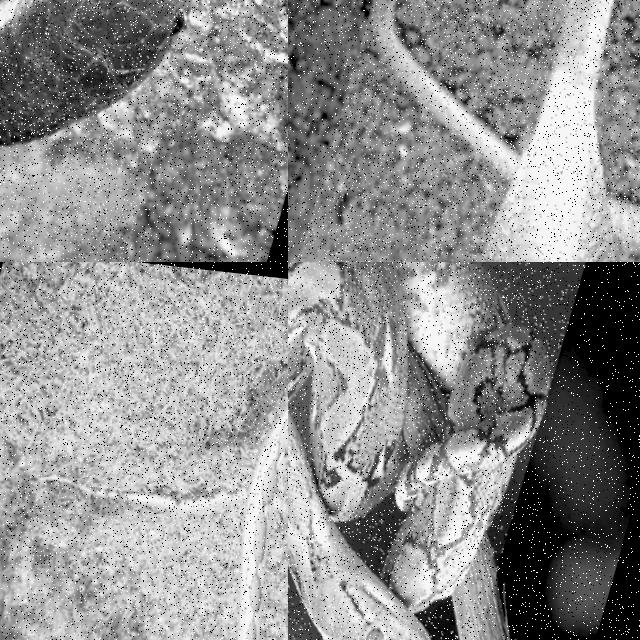Bungarus fasciatus: (0, 0, 195, 145)
Malayopython reticulatus: (288, 262, 548, 639), (81, 404, 287, 639)
Naja kaouthia: (371, 0, 639, 261)
snake: (288, 262, 548, 639), (371, 0, 639, 261), (81, 404, 287, 639), (0, 0, 195, 145)
